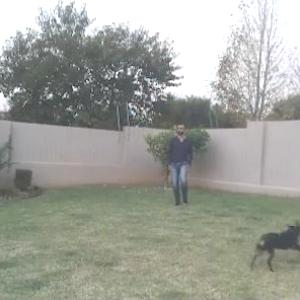follow: (167, 120, 194, 210)
